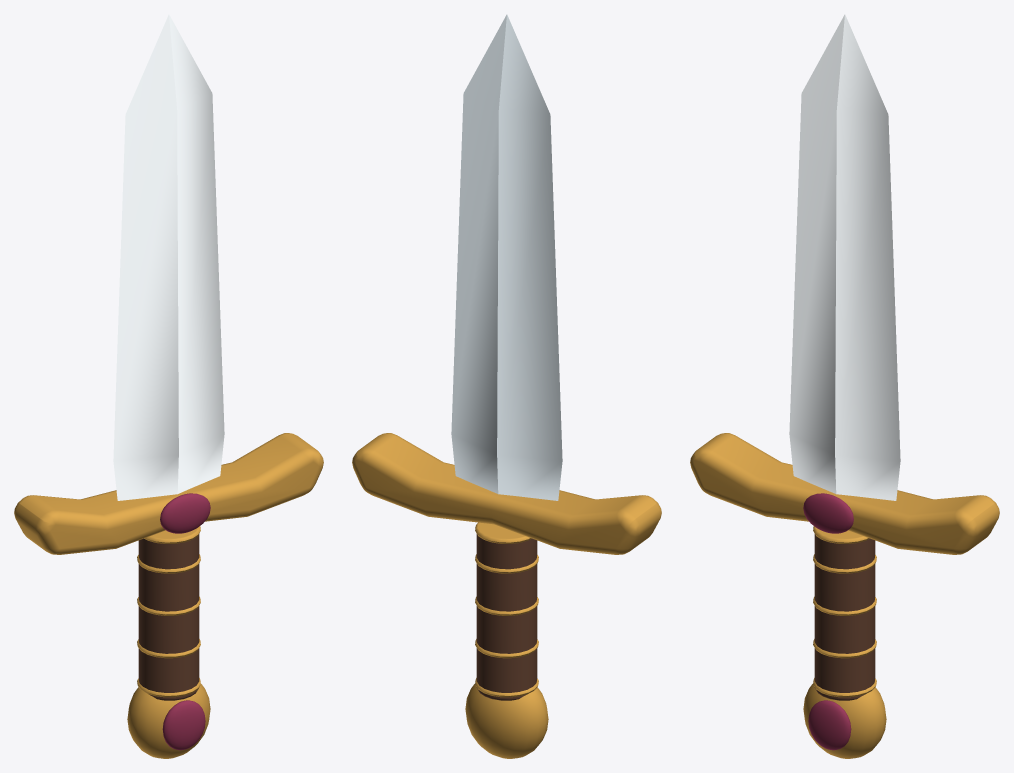
File: Knight_Sword.fbx
3 views of the same model, side by side, from view 1: azimuth 30°, elevation 25°; view 2: azimuth 150°, elevation 25°; view 3: azimuth 330°, elevation 25° (orthographic).
Parts seen in each view (by area): view 1: Knight_Sword_Standalone; view 2: Knight_Sword_Standalone; view 3: Knight_Sword_Standalone.
Part boxes in pixels (x1,y1,x2,y2): Knight_Sword_Standalone: [14, 14, 323, 758]; Knight_Sword_Standalone: [352, 14, 661, 758]; Knight_Sword_Standalone: [690, 14, 999, 758].
Size of the model in its own units: 28.38 by 70.2 by 6.3.
